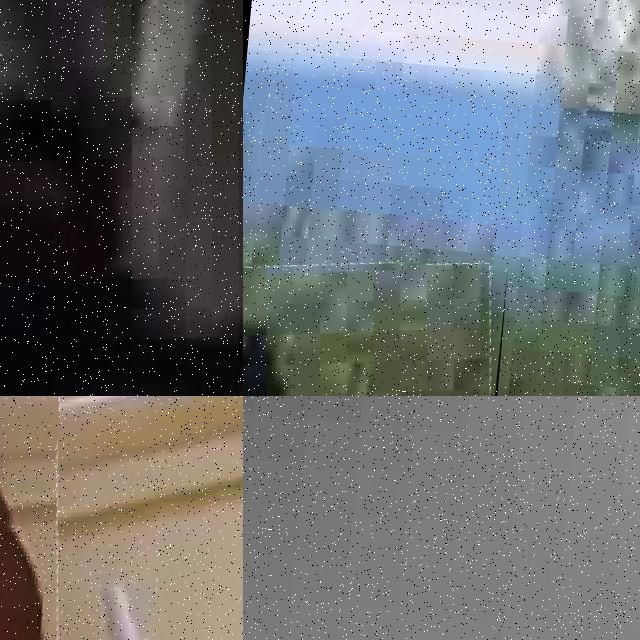0: (0, 0, 243, 396), (243, 247, 507, 396)
drone: (18, 396, 243, 640)
